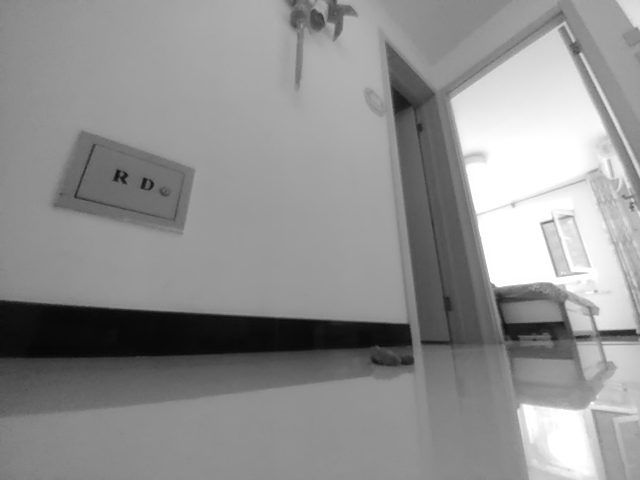curtain: (585, 166, 640, 336)
pet feces: (369, 344, 417, 370)
